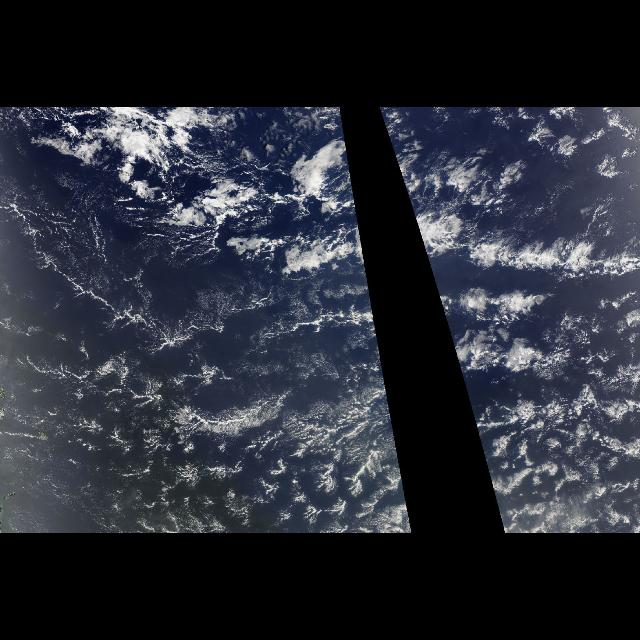Fish: (8, 194, 152, 328), (415, 220, 627, 274), (242, 220, 368, 274)
Flower: (406, 185, 638, 515), (270, 290, 410, 514)
Gravel: (36, 380, 412, 520), (461, 380, 613, 520)
Sugar: (2, 177, 374, 526)
